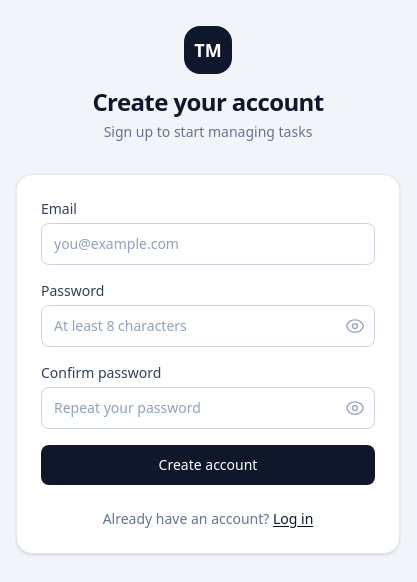
Test case: RegisterPage › rejects a short password
Type "a@b.com" into the field labelled "Email" at (208, 244), box [41,223,375,265]
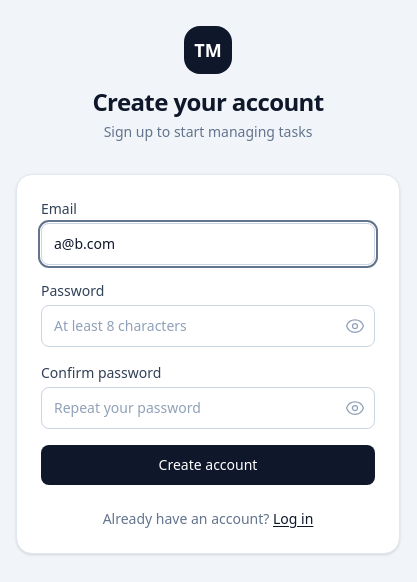
Type "short" into the password field labelled "Password" at (208, 326), box [41,305,375,347]
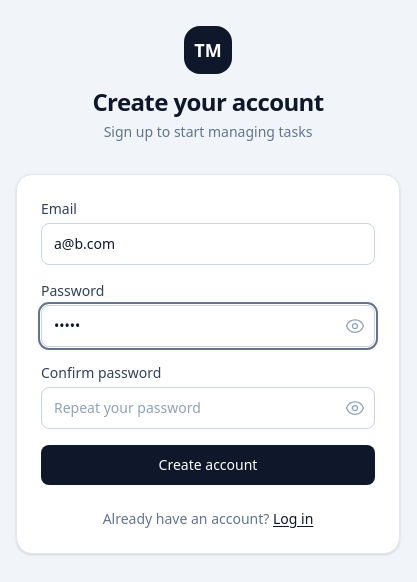
Type "short" into the password field labelled "Confirm password" at (208, 408), box [41,387,375,429]
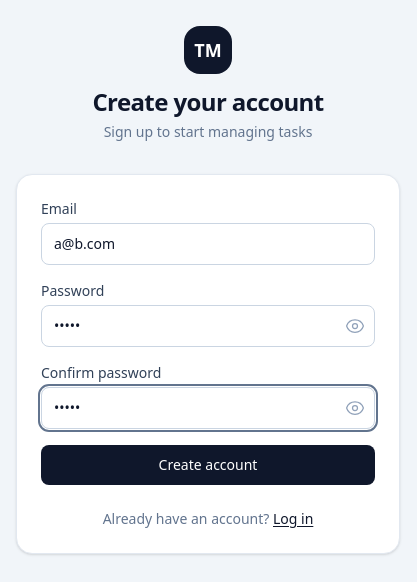
Click the button "Create account" at (208, 465), box [41,445,375,485]
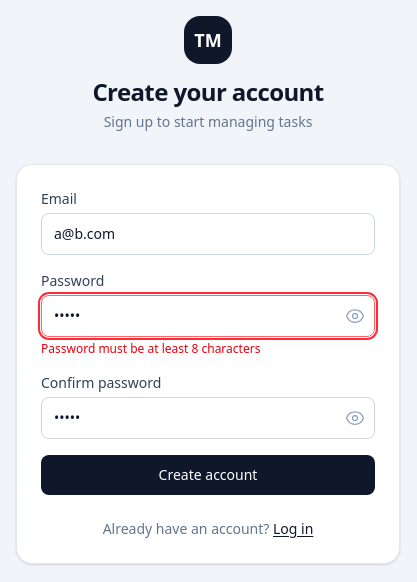
Check: the text "Password must be at least 8 characters" is shown, box [41,340,260,357]
